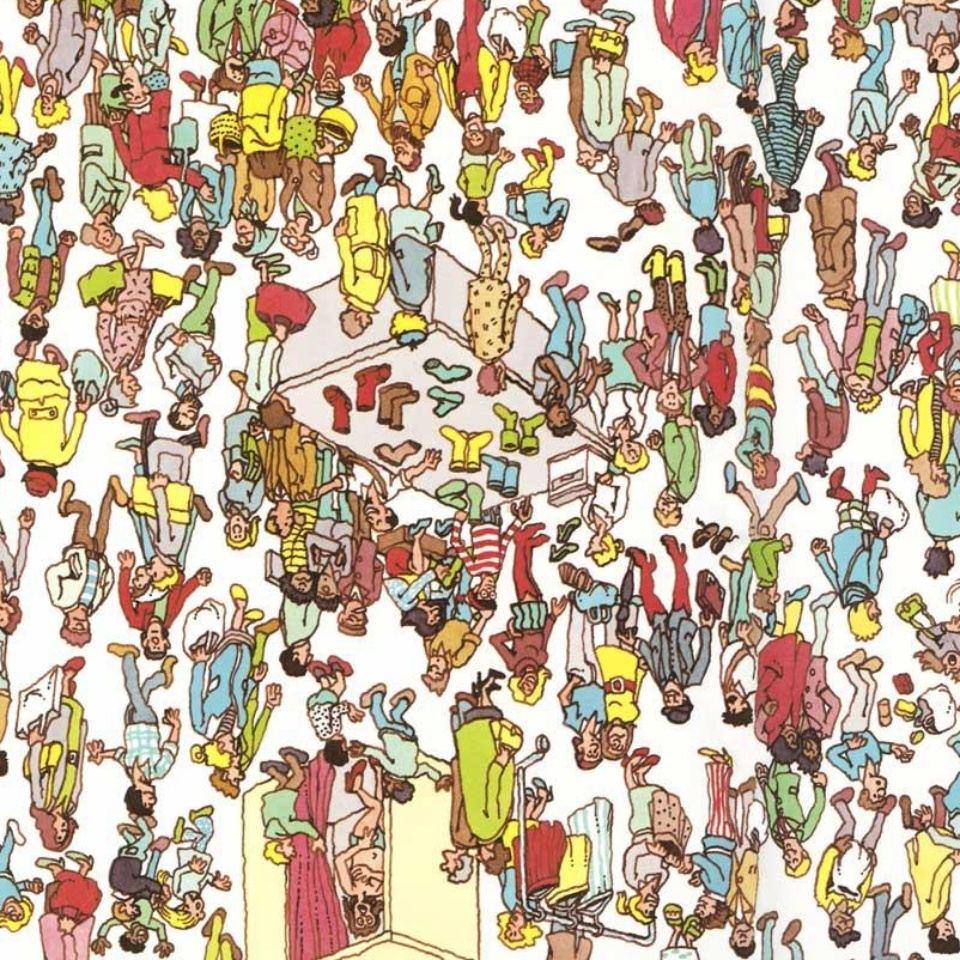waldo: (449, 511, 511, 612)
